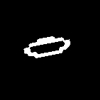chain: (24, 37, 69, 57)
